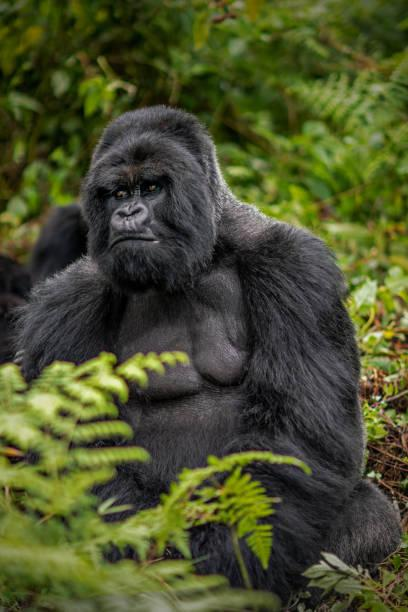goriile_montagne: (1, 99, 360, 487)
